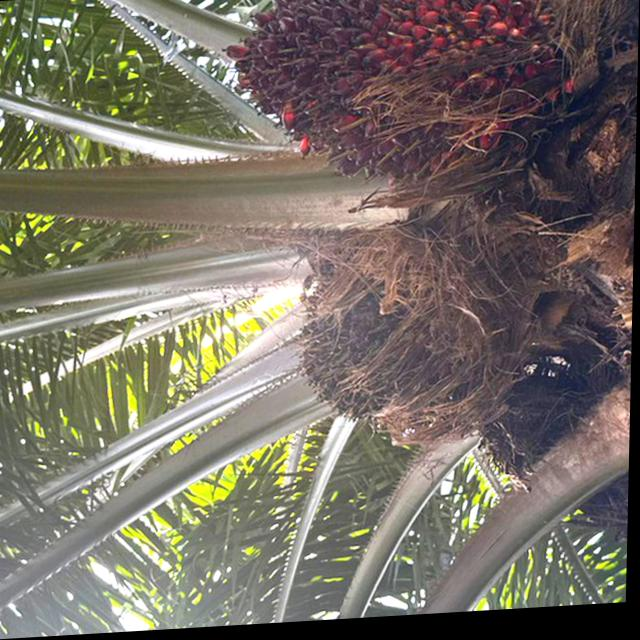unripe: (213, 0, 557, 211), (283, 226, 486, 441)
